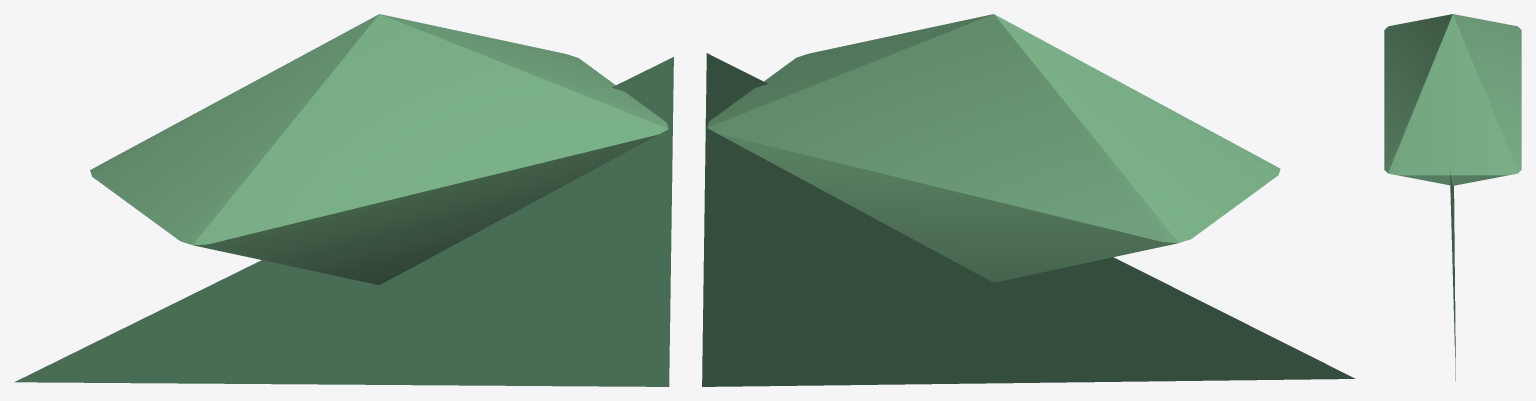
The model's file is SM_Kurpark_Hedge_LOD3.fbx.
The picture shows the model from 3 angles, left to right: view 1: azimuth 30°, elevation 25°; view 2: azimuth 150°, elevation 25°; view 3: azimuth 270°, elevation 25°; orthographic projection. The views are drawn at different scales.
Parts seen in each view (by area): view 1: SM_Kurpark_Hedge_LOD3; view 2: SM_Kurpark_Hedge_LOD3; view 3: SM_Kurpark_Hedge_LOD3.
Part boxes in pixels (x1,y1,x2,y2): SM_Kurpark_Hedge_LOD3: [14, 14, 673, 386]; SM_Kurpark_Hedge_LOD3: [702, 14, 1355, 386]; SM_Kurpark_Hedge_LOD3: [1384, 14, 1521, 380].
Size of the model in its own units: 2.97 by 1.93 by 0.85.
